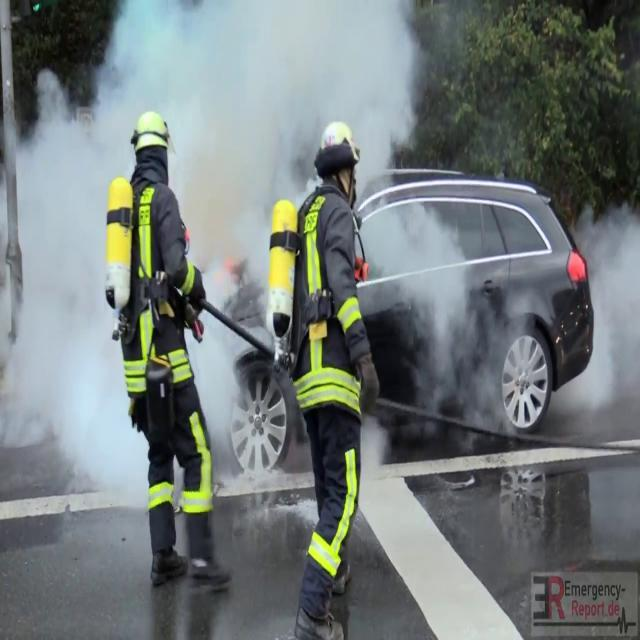Smoke: (1, 1, 480, 487), (577, 180, 640, 415)
